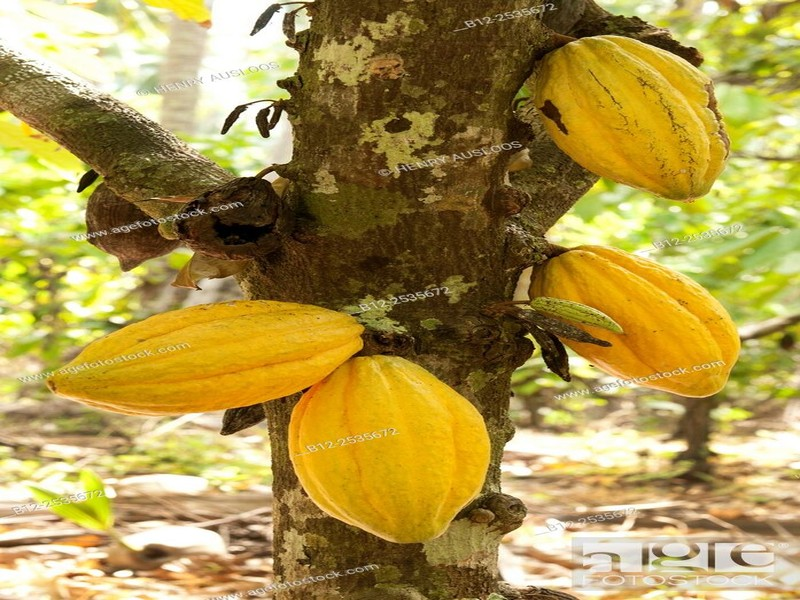Cacaopod: (285, 353, 492, 547), (45, 303, 372, 416), (532, 243, 745, 399), (536, 34, 731, 203)
